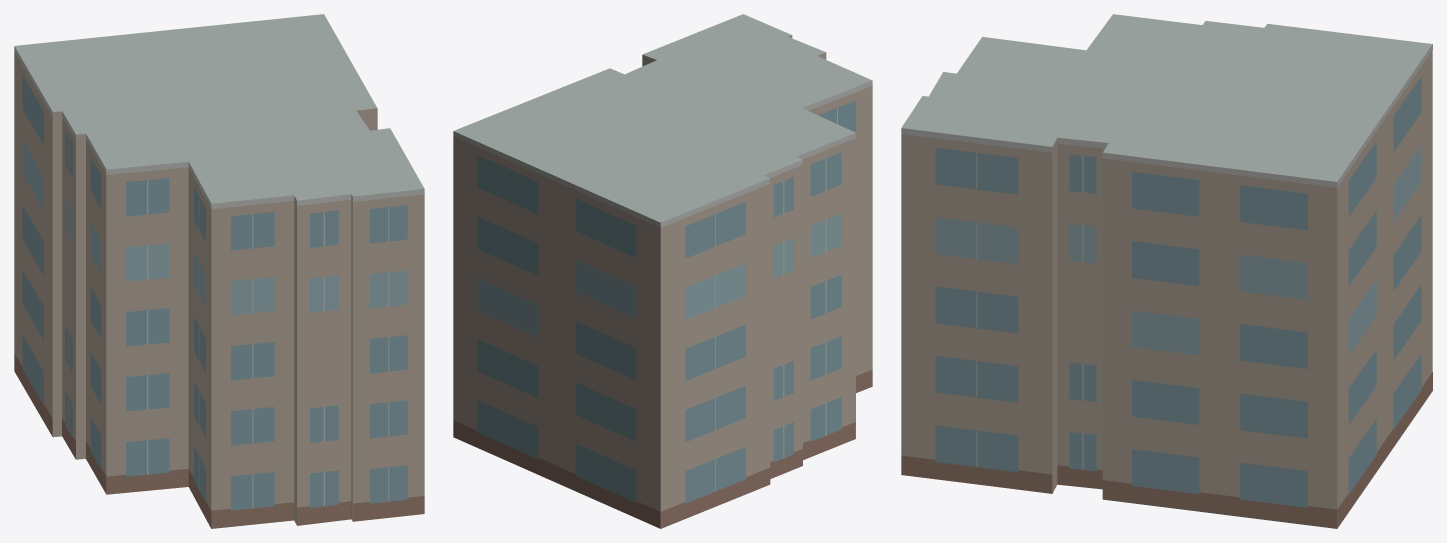
File: survey-upis-32980555.glb
3 renders of one model, left to right at view 1: azimuth 30°, elevation 25°; view 2: azimuth 150°, elevation 25°; view 3: azimuth 270°, elevation 25°, orthographic. The views are drawn at different scales.
Parts seen in each view (by area): view 1: survey-upis-32980555.tmp; view 2: survey-upis-32980555.tmp; view 3: survey-upis-32980555.tmp.
Boxes of the visible parts, x1,y1,x2,y2 form: survey-upis-32980555.tmp: (14,14,424,528); survey-upis-32980555.tmp: (453,14,872,528); survey-upis-32980555.tmp: (901,14,1432,528).
Bounding box in the file's own units: 15.07 × 14.5 × 20.14.
